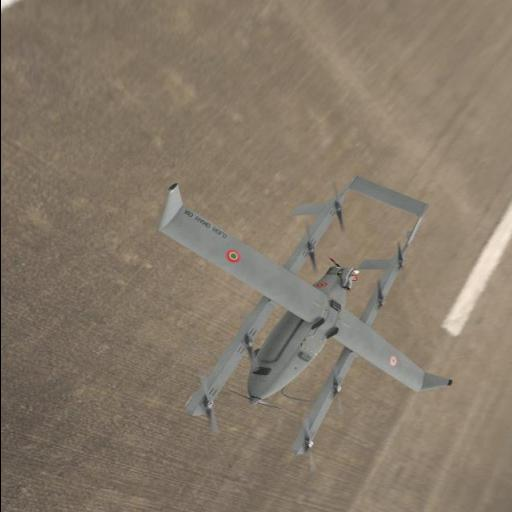uav: (152, 173, 458, 455)
